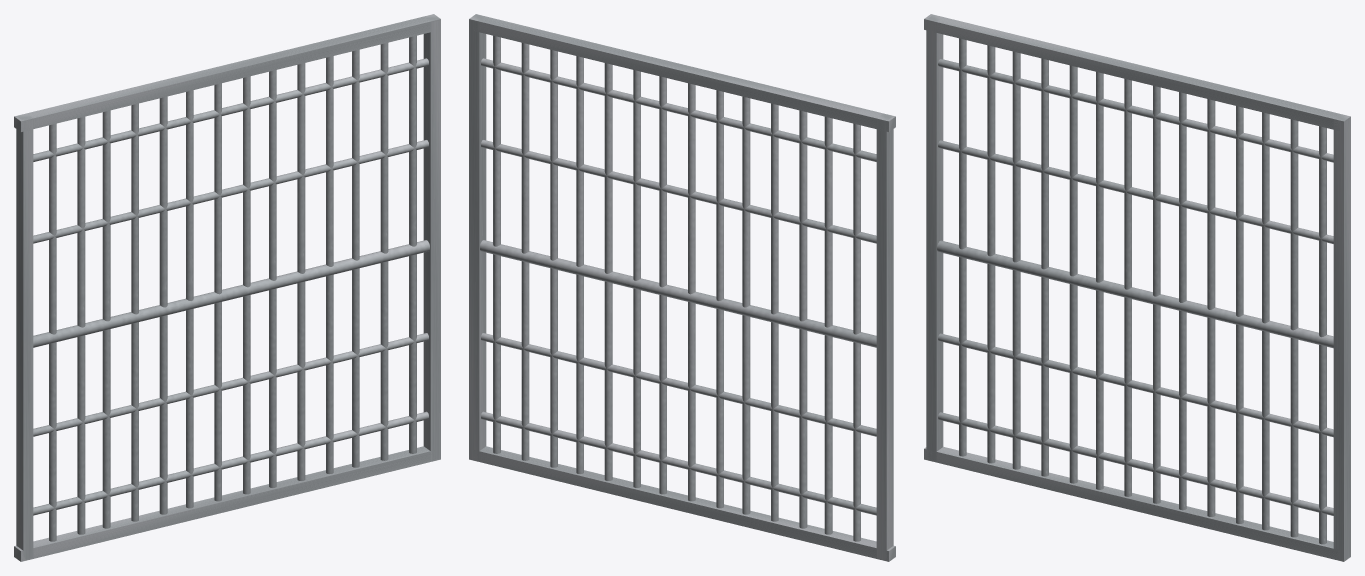
Rendered from Pared.FBX.
3 renders of one model, left to right at view 1: azimuth 30°, elevation 25°; view 2: azimuth 150°, elevation 25°; view 3: azimuth 330°, elevation 25°, orthographic.
Parts seen in each view (by area): view 1: Box009, Box008, Box007, Box006, Cylinder027, Cylinder033, Cylinder040, Cylinder019, Cylinder038, Cylinder041, Cylinder042, Cylinder037 (+11 smaller); view 2: Box009, Box008, Box007, Box006, Cylinder027, Cylinder033, Cylinder040, Cylinder038, Cylinder019, Cylinder041, Cylinder035, Cylinder042 (+11 smaller); view 3: Box008, Box009, Box007, Box006, Cylinder027, Cylinder040, Cylinder038, Cylinder019, Cylinder041, Cylinder033, Cylinder039, Cylinder036 (+11 smaller).
Boxes of the visible parts, left/top/right/bottom form: Box009: left=16, top=113, right=33, bottom=560; Box008: left=423, top=14, right=440, bottom=461; Box007: left=14, top=16, right=431, bottom=131; Box006: left=14, top=446, right=435, bottom=561; Cylinder027: left=33, top=240, right=429, bottom=347; Cylinder033: left=297, top=63, right=305, bottom=480; Cylinder040: left=102, top=110, right=110, bottom=528; Cylinder019: left=380, top=43, right=388, bottom=460; Cylinder038: left=159, top=96, right=167, bottom=514; Cylinder041: left=77, top=116, right=85, bottom=534; Cylinder042: left=49, top=123, right=56, bottom=541; Cylinder037: left=186, top=90, right=193, bottom=508; Box009: left=876, top=113, right=893, bottom=560; Box008: left=469, top=14, right=486, bottom=461; Box007: left=473, top=16, right=895, bottom=131; Box006: left=473, top=446, right=895, bottom=561; Cylinder027: left=480, top=240, right=876, bottom=347; Cylinder033: left=604, top=63, right=612, bottom=480; Cylinder040: left=799, top=110, right=807, bottom=528; Cylinder038: left=742, top=96, right=750, bottom=514; Cylinder019: left=521, top=43, right=529, bottom=460; Cylinder041: left=824, top=116, right=832, bottom=534; Cylinder035: left=659, top=76, right=666, bottom=494; Cylinder042: left=853, top=123, right=860, bottom=541; Box008: left=1333, top=114, right=1350, bottom=561; Box009: left=926, top=14, right=943, bottom=462; Box007: left=924, top=14, right=1344, bottom=130; Box006: left=924, top=447, right=1339, bottom=559; Cylinder027: left=937, top=240, right=1333, bottom=348; Cylinder040: left=1012, top=51, right=1020, bottom=469; Cylinder038: left=1069, top=65, right=1077, bottom=483; Cylinder019: left=1290, top=119, right=1298, bottom=537; Cylinder041: left=987, top=45, right=995, bottom=463; Cylinder033: left=1207, top=99, right=1215, bottom=516; Cylinder039: left=1041, top=58, right=1048, bottom=476; Cylinder036: left=1124, top=78, right=1131, bottom=496.
Size of the model in its own units: 123 by 123 by 3.5.
Materials: 12 (12 with a texture image).
